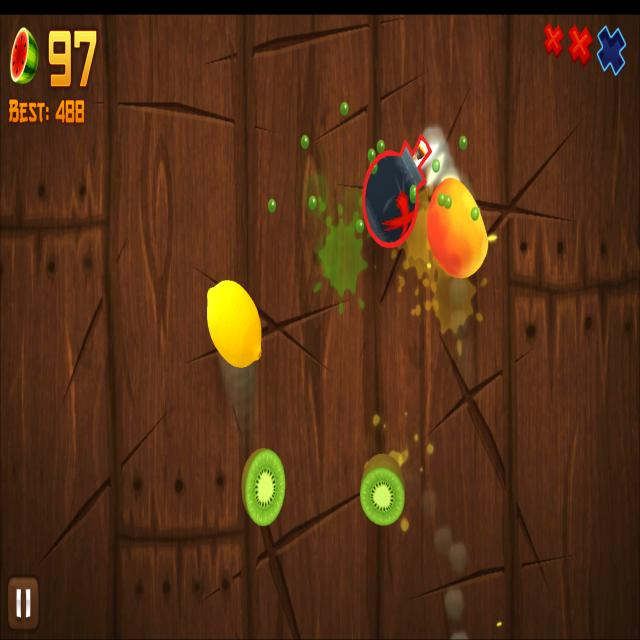bomb: (362, 134, 432, 247)
fruit: (427, 178, 489, 278), (206, 280, 262, 367)
